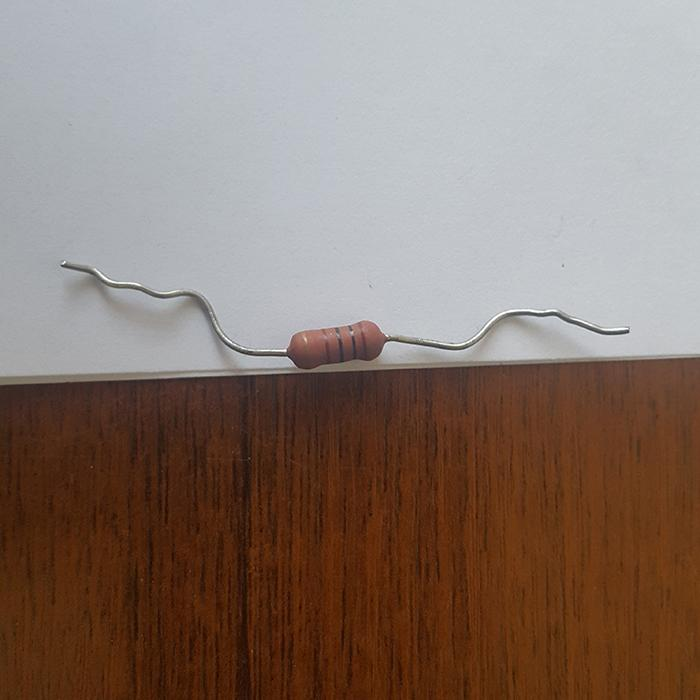resistor: (286, 321, 387, 368)
